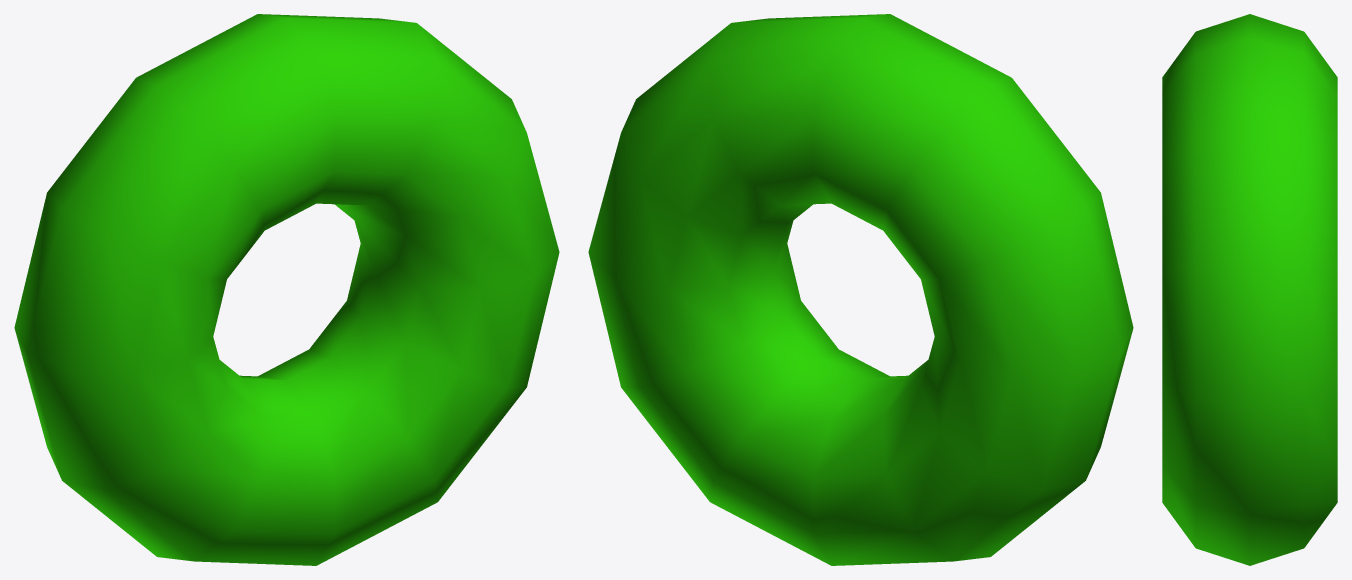
The model's file is itemTorus.fbx.
3 renders of one model, left to right at view 1: azimuth 30°, elevation 25°; view 2: azimuth 150°, elevation 25°; view 3: azimuth 270°, elevation 25°, orthographic. The views are drawn at different scales.
Visible parts, largest first — view 1: itemTorus; view 2: itemTorus; view 3: itemTorus.
Part boxes in pixels (x1,y1,x2,y2): itemTorus: (14, 14, 559, 565); itemTorus: (588, 14, 1133, 565); itemTorus: (1162, 14, 1337, 565).
Bounding box in the file's own units: 158 × 158 × 49.96.
